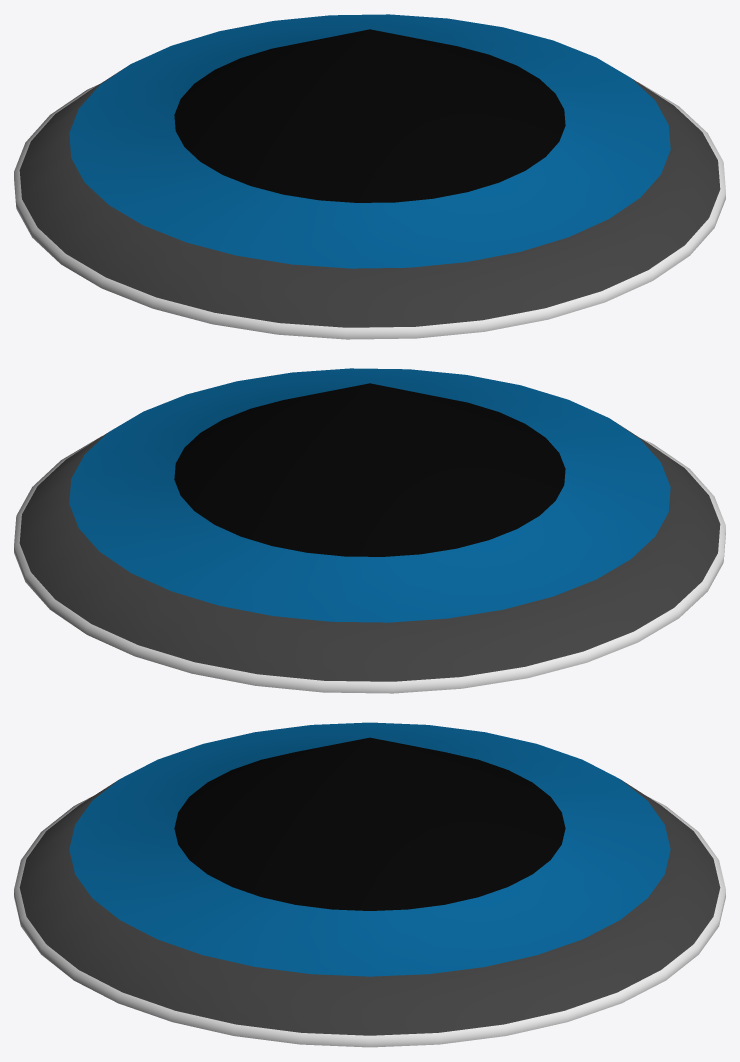
The model's file is CymbalGhostNote.fbx.
3 views of the same model, one above another, from view 1: azimuth 30°, elevation 25°; view 2: azimuth 150°, elevation 25°; view 3: azimuth 270°, elevation 25° (orthographic).
Visible parts, largest first — view 1: Cone.013; view 2: Cone.013; view 3: Cone.013.
Part boxes in pixels (x1,y1,x2,y2): Cone.013: (14,14,725,339); Cone.013: (14,368,725,693); Cone.013: (14,722,725,1047).
Bounding box in the file's own units: 47.96 × 11.85 × 47.96.
